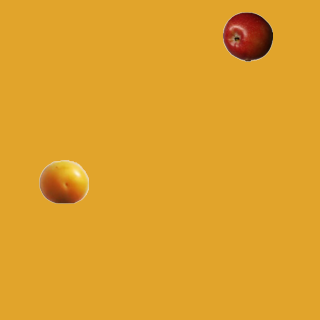Apple Braeburn: (222, 11, 272, 61)
Cherry Wax Yellow: (38, 156, 88, 206)
